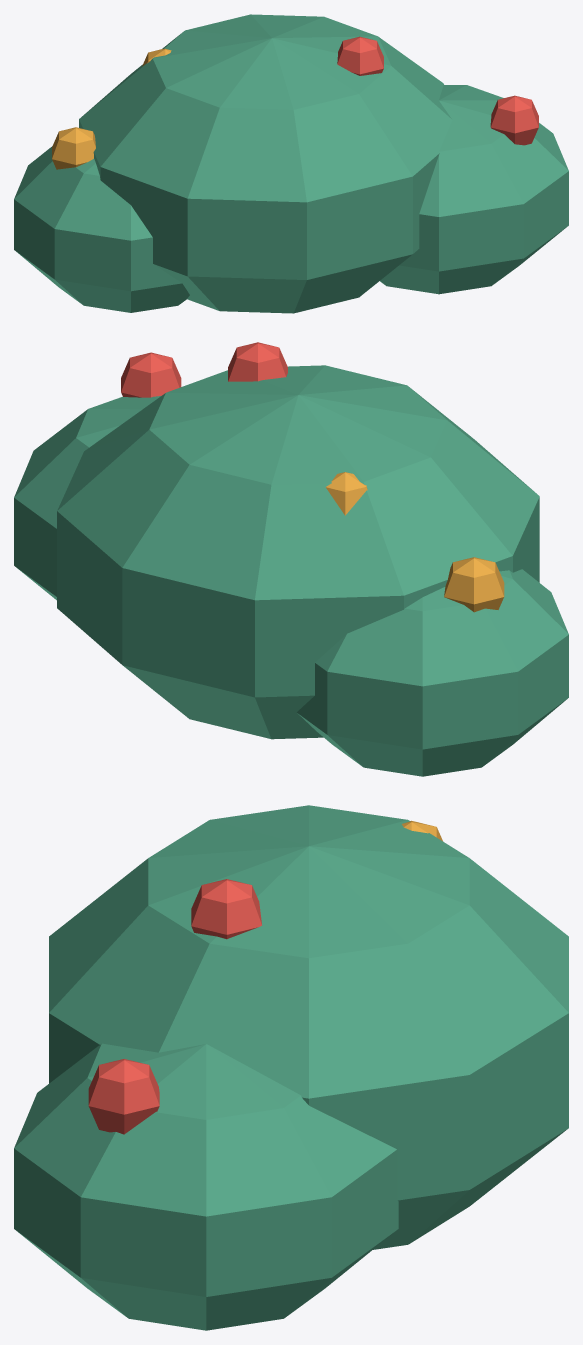
The model's file is ParkParkDecorBush.obj.
The picture shows the model from 3 angles, top to bottom: view 1: azimuth 30°, elevation 25°; view 2: azimuth 150°, elevation 25°; view 3: azimuth 270°, elevation 25°; orthographic projection. The views are drawn at different scales.
Parts seen in each view (by area): view 1: ParkParkDecorBush; view 2: ParkParkDecorBush; view 3: ParkParkDecorBush.
Boxes of the visible parts, <box> form: ParkParkDecorBush: <box>14,14,568,313</box>; ParkParkDecorBush: <box>14,342,568,776</box>; ParkParkDecorBush: <box>14,805,568,1330</box>.
Size of the model in its own units: 3.86 by 2.05 by 2.7.
